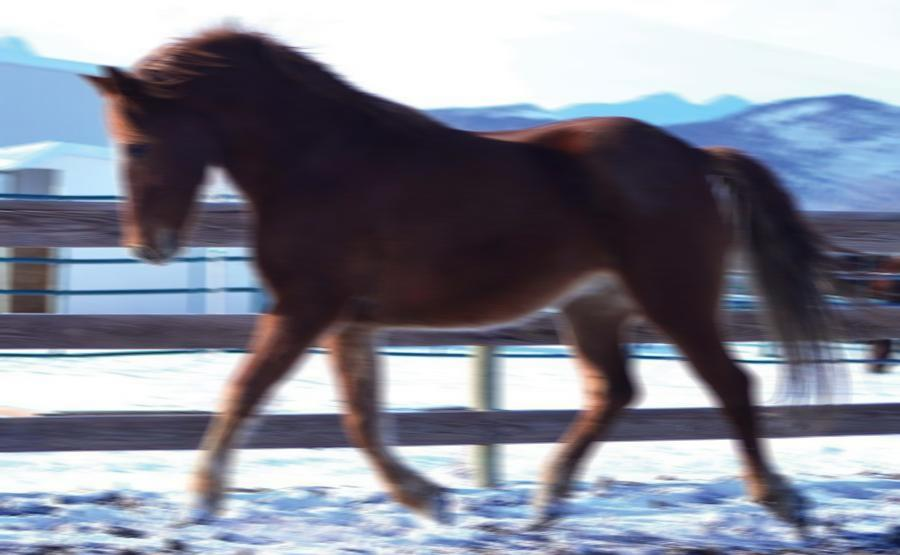horse: (74, 12, 882, 555)
